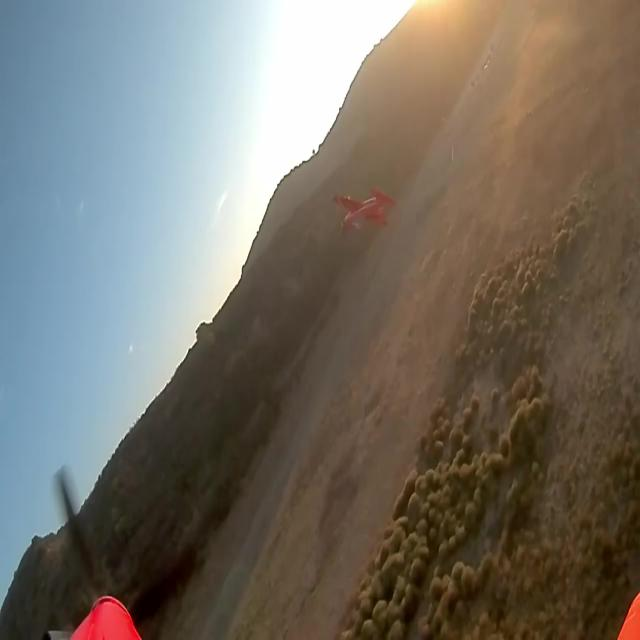iha: (362, 186, 366, 237)
